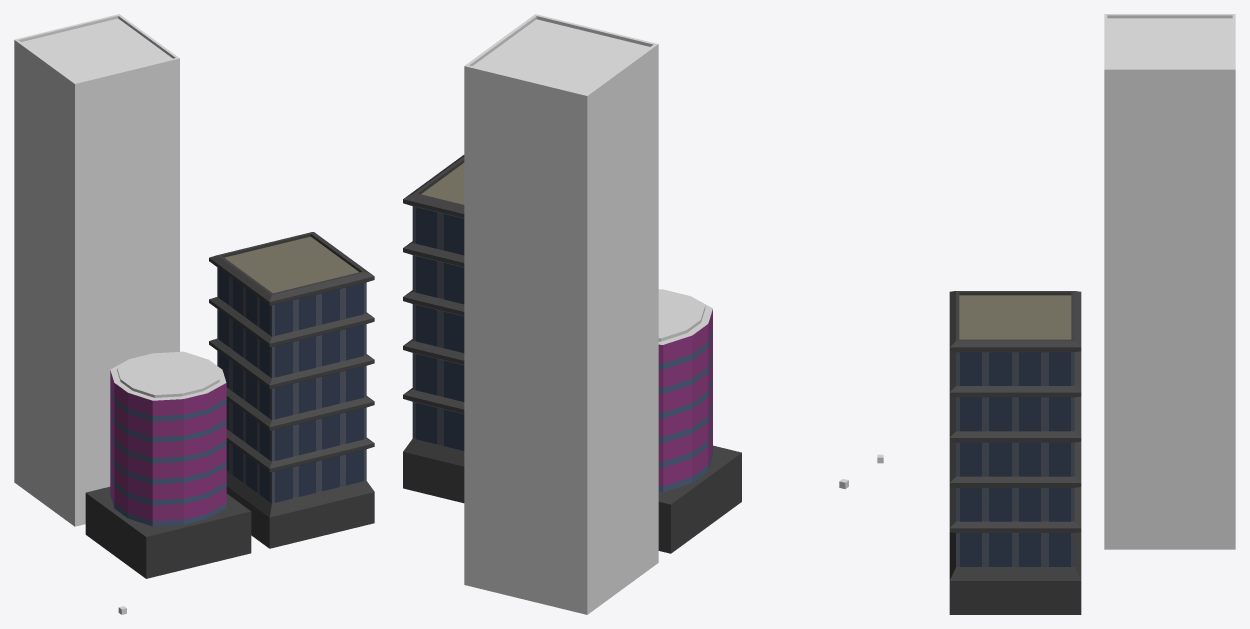
The model's file is baseDecor2.glb.
3 renders of one model, left to right at view 1: azimuth 30°, elevation 25°; view 2: azimuth 150°, elevation 25°; view 3: azimuth 270°, elevation 25°, orthographic. The views are drawn at different scales.
Parts seen in each view (by area): view 1: building3, building2, building1; view 2: building3, building2, building1; view 3: building3, building2.
Part boxes in pixels (<box>): building3: <box>14,14,179,526</box>; building2: <box>209,232,374,548</box>; building1: <box>85,351,251,578</box>; building3: <box>464,14,658,614</box>; building2: <box>403,155,464,503</box>; building1: <box>658,289,741,553</box>; building3: <box>1104,14,1235,549</box>; building2: <box>949,291,1081,614</box>.
Size of what is drawn, in the model's own units: 109 by 161 by 109.
2 materials, 2 textured.
